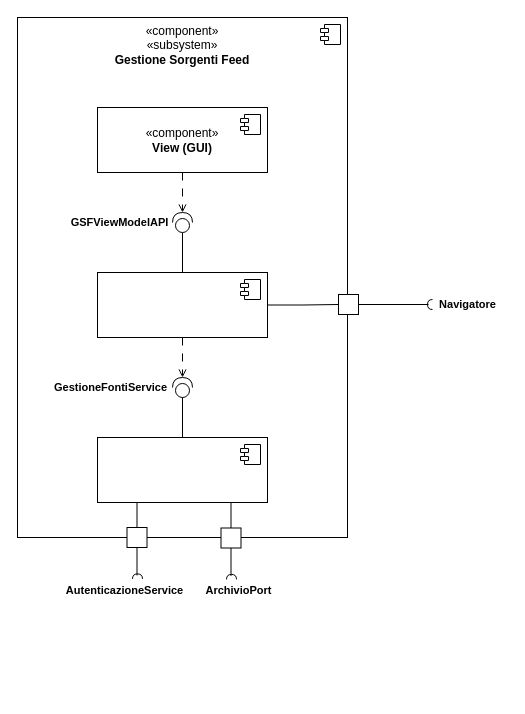
The diagram is 525 pixels wide and 714 high, and some of its shapes have lost their labels. Here are the shapes that lost their labels. From the top down, the box of each, then its label:
(96, 272, 268, 338): «component» ViewModel (controller)
(96, 436, 268, 502): «component» Service
